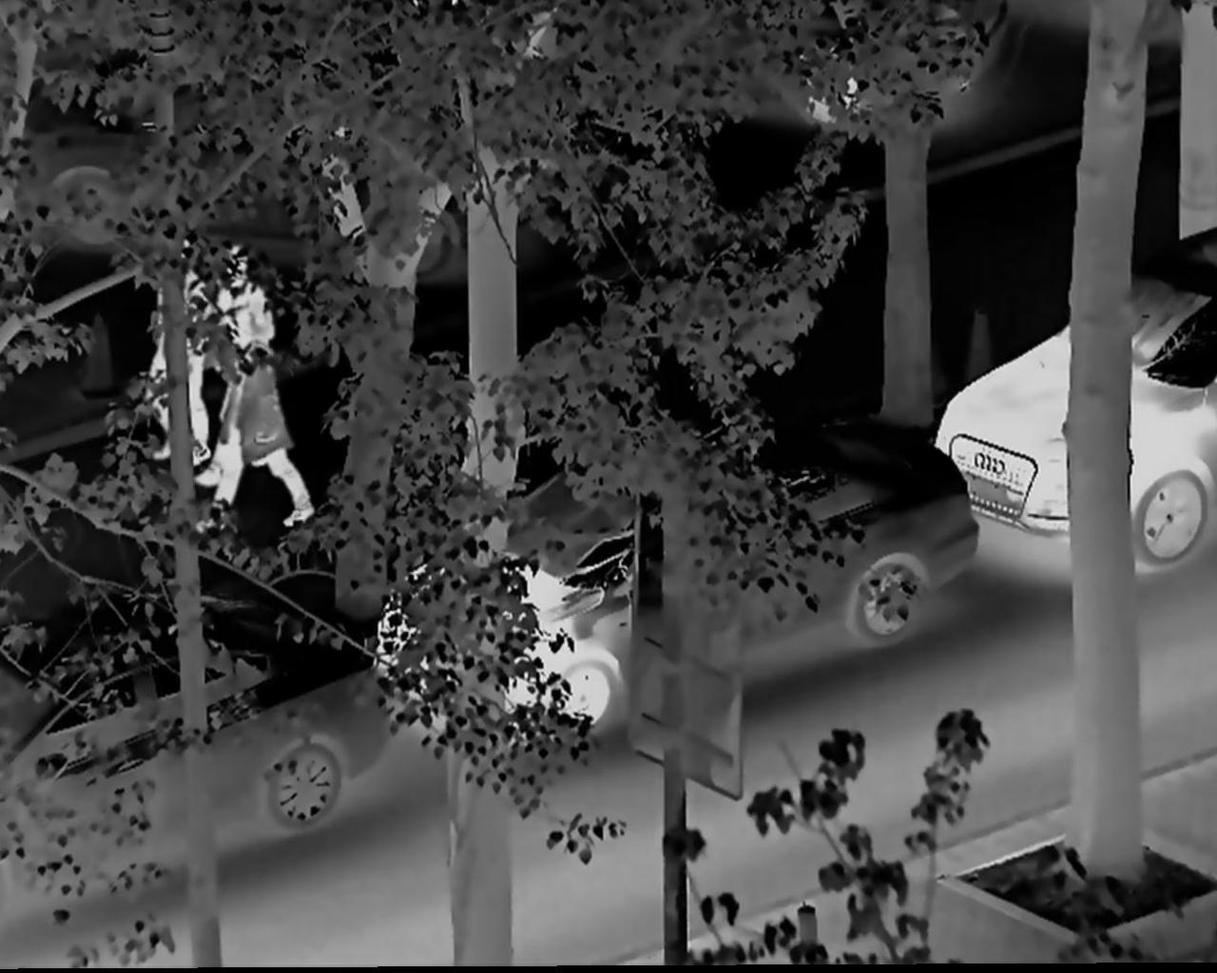person: (206, 312, 309, 531), (199, 238, 279, 487), (150, 238, 211, 469)
